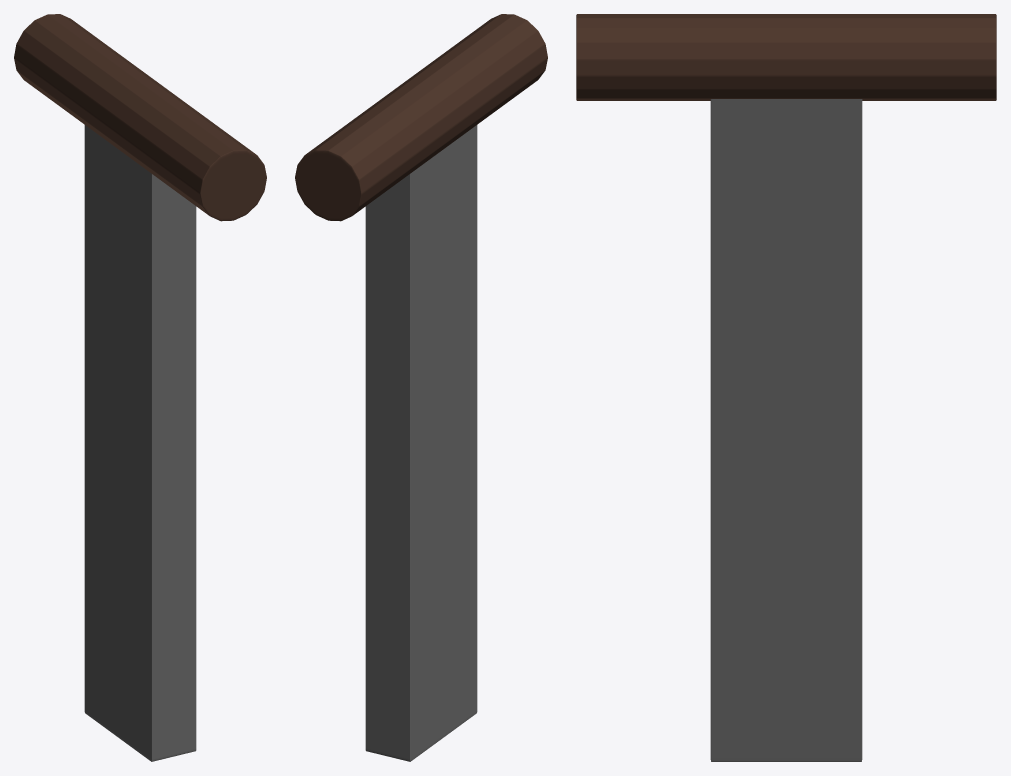
Rendered from Plunger Arm.fbx.
The picture shows the model from 3 angles, left to right: view 1: azimuth 30°, elevation 25°; view 2: azimuth 150°, elevation 25°; view 3: azimuth 270°, elevation 25°; orthographic projection. The views are drawn at different scales.
Visible parts, largest first — view 1: Plunger Arm; view 2: Plunger Arm; view 3: Plunger Arm.
Boxes of the visible parts, left/top/right/bottom form: Plunger Arm: left=14, top=14, right=266, bottom=761; Plunger Arm: left=295, top=14, right=547, bottom=761; Plunger Arm: left=576, top=14, right=996, bottom=761.
Size of the model in its own units: 43.87 by 408 by 212.
